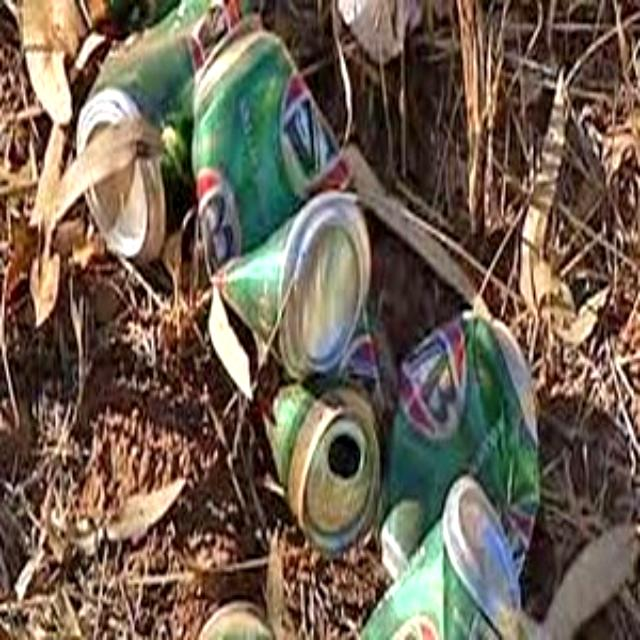Metal: (188, 24, 388, 380), (380, 314, 538, 566)
